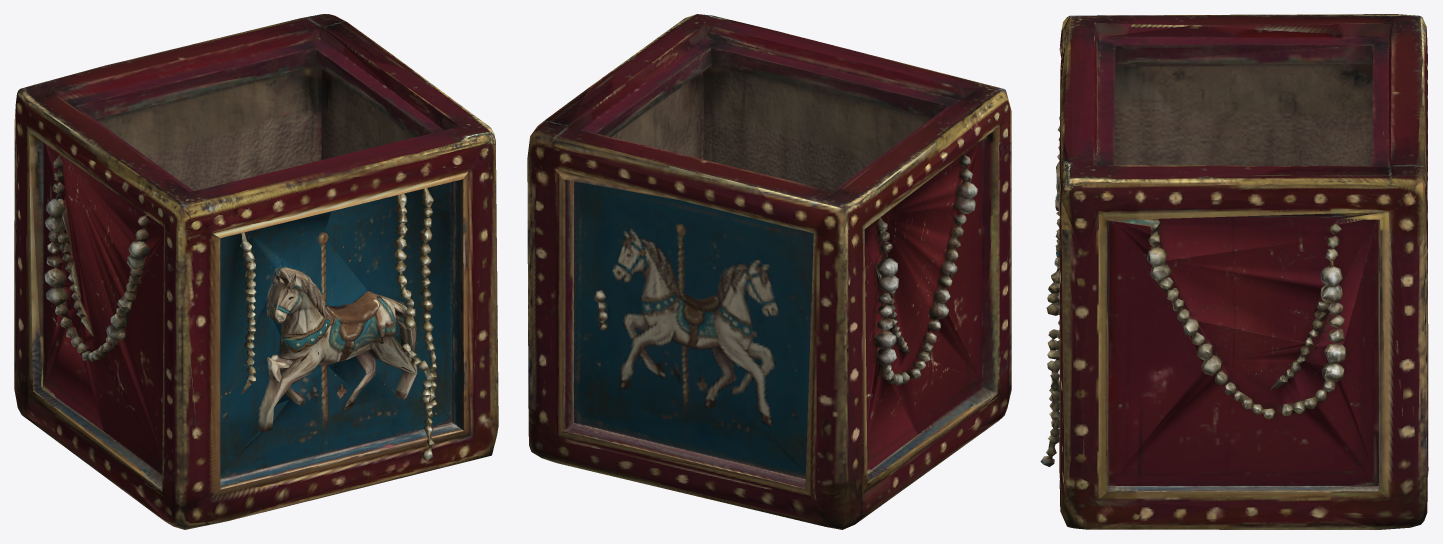
Rendered from PogoBox.fbx.
3 renders of one model, left to right at view 1: azimuth 30°, elevation 25°; view 2: azimuth 150°, elevation 25°; view 3: azimuth 270°, elevation 25°, orthographic. The views are drawn at different scales.
Parts seen in each view (by area): view 1: Mesh_0; view 2: Mesh_0; view 3: Mesh_0.
Boxes of the visible parts, bbox=[...] form: Mesh_0: bbox=[14, 14, 498, 529]; Mesh_0: bbox=[527, 14, 1011, 529]; Mesh_0: bbox=[1040, 14, 1428, 529].
Bounding box in the file's own units: 190 × 176 × 175.
1 material, 1 textured.
